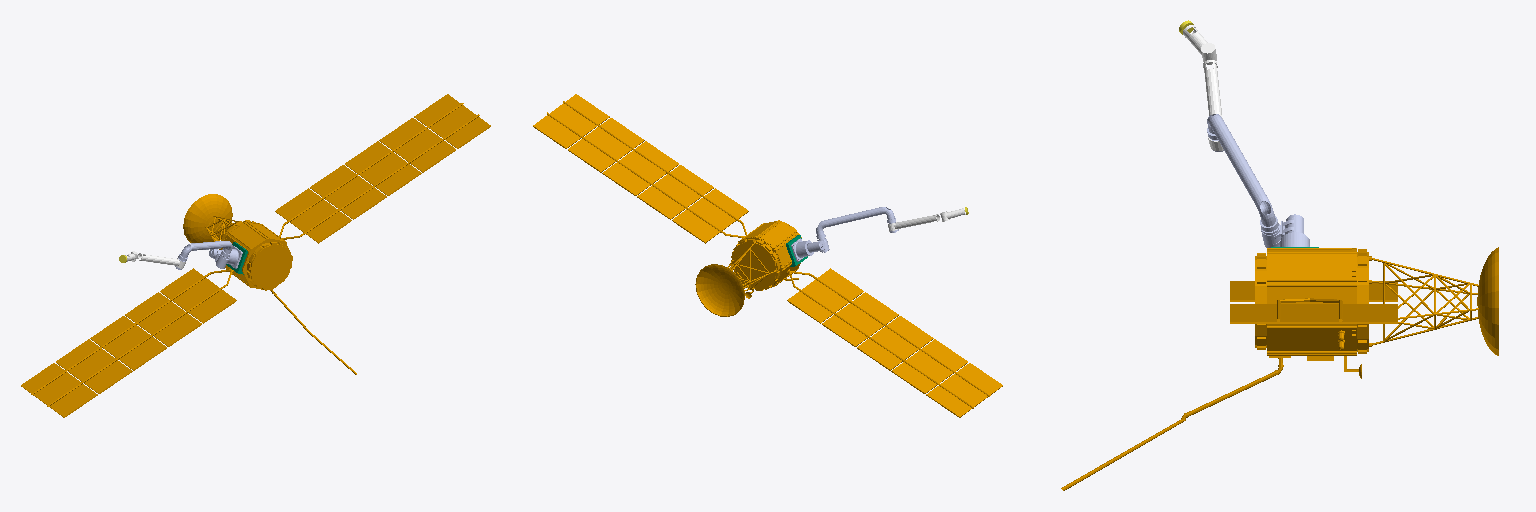
The robot description file, URDF, robot "satellite_12__starlink_sldasm9":
<?xml version='1.0' encoding='utf-8'?>
<robot name="satellite_12__starlink_sldasm9">
  <link name="base_link">
    <visual>
      <geometry>
        <mesh filename="../satellites/satellite_12/satellite.stl" />
      </geometry>
    </visual>
    <collision>
      <geometry>
        <mesh filename="../satellites/satellite_12/satellite.stl" />
      </geometry>
    </collision>
  </link>
  <link name="satellite_12_mount" />
  <joint name="satellite_mount_fixed" type="fixed">
    <parent link="base_link" />
    <child link="satellite_12_mount" />
    <origin xyz="-0.42978277927665665 -0.048447198595315544 0.12321589375317275" rpy="-1.232595164407831e-32 -1.1780967567368361 1.0555399031630314e-16" />
  </joint>
  <link name="mount_support">
    <visual>
      <geometry>
        <mesh filename="../satellites/satellite_12/mount_support.stl" />
      </geometry>
    </visual>
    <collision>
      <geometry>
        <mesh filename="../satellites/satellite_12/mount_support.stl" />
      </geometry>
    </collision>
  </link>
  <joint name="support_fixed" type="fixed">
    <parent link="satellite_12_mount" />
    <child link="mount_support" />
    <origin xyz="0 0 0" rpy="0 0 0" />
  </joint>
  <joint name="arm_adapter_fixed" type="fixed">
    <parent link="satellite_12_mount" />
    <child link="starlink_space_manipulator_base_link" />
    <origin xyz="0.009087204933166504 0.008519247174263 0.16000000119209293" rpy="-1.5707963267948966 0 0.0" />
  </joint>
  <link name="starlink_space_manipulator_base_link">
    <inertial>
      <origin xyz="-0.00908719924946466 0.0225428225681148 -0.00851924929637313" rpy="0 0 0" />
      <mass value="8.66024015898073" />
      <inertia ixx="0.0960303512697639" ixy="1.65511904636803E-18" ixz="6.22039820639877E-19" iyy="0.103454922260914" iyz="-9.68471289978311E-19" izz="0.0960303512697639" />
    </inertial>
    <visual>
      <origin xyz="0 0 0" rpy="0 0 0" />
      <geometry>
        <mesh filename="../arms/starlink_sldasm9/meshes/starlink_space_manipulator_base_link.STL" />
      </geometry>
      <material name="">
        <color rgba="0.792156862745098 0.819607843137255 0.933333333333333 1" />
      </material>
    </visual>
    <collision>
      <origin xyz="0 0 0" rpy="0 0 0" />
      <geometry>
        <mesh filename="../arms/starlink_sldasm9/meshes/starlink_space_manipulator_base_link.STL" />
      </geometry>
    </collision>
  </link>
  <link name="starlink_space_manipulator_Shoulder_link_1">
    <inertial>
      <origin xyz="-0.000399471745595769 -0.100006574194712 -0.17423940484461" rpy="0 0 0" />
      <mass value="5.16309216784981" />
      <inertia ixx="0.0524543852135592" ixy="0.00348154867667969" ixz="6.96526910910627E-05" iyy="0.0306595326318824" iyz="-0.00056674368052247" izz="0.0439979075615329" />
    </inertial>
    <visual>
      <origin xyz="0 0 0" rpy="0 0 0" />
      <geometry>
        <mesh filename="../arms/starlink_sldasm9/meshes/starlink_space_manipulator_Shoulder_link_1.STL" />
      </geometry>
      <material name="">
        <color rgba="0.792156862745098 0.819607843137255 0.933333333333333 1" />
      </material>
    </visual>
    <collision>
      <origin xyz="0 0 0" rpy="0 0 0" />
      <geometry>
        <mesh filename="../arms/starlink_sldasm9/meshes/starlink_space_manipulator_Shoulder_link_1.STL" />
      </geometry>
    </collision>
  </link>
  <joint name="starlink_space_manipulator_Shoulder_link_1_yaw" type="revolute">
    <origin xyz="-0.0090872 -0.065 -0.0085192" rpy="1.5708 -0.15574 3.1416" />
    <parent link="starlink_space_manipulator_base_link" />
    <child link="starlink_space_manipulator_Shoulder_link_1" />
    <axis xyz="0 0 -1" />
    <limit lower="-3.14" upper="3.14" effort="0" velocity="0" />
  </joint>
  <link name="starlink_space_manipulator_Upper_arm_Link_1">
    <inertial>
      <origin xyz="0.402106341472203 -0.696465272634528 -0.170177523085579" rpy="0 0 0" />
      <mass value="5.05309869040685" />
      <inertia ixx="0.388719013133801" ixy="0.210155896498943" ixz="9.30829370680679E-08" iyy="0.146049057575642" iyz="1.71830458004218E-07" izz="0.500677708275447" />
    </inertial>
    <visual>
      <origin xyz="0 0 0" rpy="0 0 0" />
      <geometry>
        <mesh filename="../arms/starlink_sldasm9/meshes/starlink_space_manipulator_Upper_arm_Link_1.STL" />
      </geometry>
      <material name="">
        <color rgba="0.792156862745098 0.819607843137255 0.933333333333333 1" />
      </material>
    </visual>
    <collision>
      <origin xyz="0 0 0" rpy="0 0 0" />
      <geometry>
        <mesh filename="../arms/starlink_sldasm9/meshes/starlink_space_manipulator_Upper_arm_Link_1.STL" />
      </geometry>
    </collision>
  </link>
  <joint name="starlink_space_manipulator_Upper_arm_Link_1_roll" type="revolute">
    <origin xyz="0 -0.2 -0.18" rpy="1.5708 0.90646 1.5708" />
    <parent link="starlink_space_manipulator_Shoulder_link_1" />
    <child link="starlink_space_manipulator_Upper_arm_Link_1" />
    <axis xyz="0 0 -1" />
    <limit lower="-2" upper="1.5" effort="0" velocity="0" />
  </joint>
  <link name="starlink_space_manipulator_Mid_arm_Link_1">
    <inertial>
      <origin xyz="-0.000406052776441013 0.317722269561105 0.0155331755135703" rpy="0 0 0" />
      <mass value="1.57635531881168" />
      <inertia ixx="0.133610363618846" ixy="5.33750993405138E-05" ixz="-3.60473795202962E-09" iyy="0.00502119434334708" iyz="-2.514275749911E-05" izz="0.134586018527477" />
    </inertial>
    <visual>
      <origin xyz="0 0 0" rpy="0 0 0" />
      <geometry>
        <mesh filename="../arms/starlink_sldasm9/meshes/starlink_space_manipulator_Mid_arm_Link_1.STL" />
      </geometry>
      <material name="">
        <color rgba="1 1 1 1" />
      </material>
    </visual>
    <collision>
      <origin xyz="0 0 0" rpy="0 0 0" />
      <geometry>
        <mesh filename="../arms/starlink_sldasm9/meshes/starlink_space_manipulator_Mid_arm_Link_1.STL" />
      </geometry>
    </collision>
  </link>
  <joint name="starlink_space_manipulator_Mid_arm_Link_1_roll" type="revolute">
    <origin xyz="0.599999999999673 -1.03923048454122 0" rpy="-3.14159265358979 0 0.828250280535091" />
    <parent link="starlink_space_manipulator_Upper_arm_Link_1" />
    <child link="starlink_space_manipulator_Mid_arm_Link_1" />
    <axis xyz="0 0 -1" />
    <limit lower="-3.14" upper="3.14" effort="0" velocity="0" />
  </joint>
  <link name="starlink_space_manipulator_Upper_wrist_Link_1">
    <inertial>
      <origin xyz="-0.000400003664721815 -0.201565878030355 -0.00216705855311664" rpy="0 0 0" />
      <mass value="0.994770641034713" />
      <inertia ixx="0.00165409639029414" ixy="-7.59103925411082E-06" ixz="-3.17403155320863E-06" iyy="0.00201437937768072" iyz="2.63246464091218E-06" izz="0.00159638838344539" />
    </inertial>
    <visual>
      <origin xyz="0 0 0" rpy="0 0 0" />
      <geometry>
        <mesh filename="../arms/starlink_sldasm9/meshes/starlink_space_manipulator_Upper_wrist_Link_1.STL" />
      </geometry>
      <material name="">
        <color rgba="0.792156862745098 0.819607843137255 0.933333333333333 1" />
      </material>
    </visual>
    <collision>
      <origin xyz="0 0 0" rpy="0 0 0" />
      <geometry>
        <mesh filename="../arms/starlink_sldasm9/meshes/starlink_space_manipulator_Upper_wrist_Link_1.STL" />
      </geometry>
    </collision>
  </link>
  <joint name="starlink_space_manipulator_Upper_wrist_Link_1_yaw" type="revolute">
    <origin xyz="-0.00050155183276912 0.686793643713439 0.0155010481432086" rpy="0 -0.0763876794035917 3.14159265358979" />
    <parent link="starlink_space_manipulator_Mid_arm_Link_1" />
    <child link="starlink_space_manipulator_Upper_wrist_Link_1" />
    <axis xyz="0 -1 0" />
    <limit lower="-3.14" upper="3.14" effort="0" velocity="0" />
  </joint>
  <link name="starlink_space_manipulator_Upper_wrist_Link_2">
    <inertial>
      <origin xyz="8.45304168883843E-08 0.0848318719623631 -0.00515657391755576" rpy="0 0 0" />
      <mass value="1.03716823037577" />
      <inertia ixx="0.0100970561498589" ixy="1.32295633551837E-09" ixz="-9.43675929999229E-09" iyy="0.00222325407426665" iyz="-2.08772874866187E-06" izz="0.0105840577017538" />
    </inertial>
    <visual>
      <origin xyz="0 0 0" rpy="0 0 0" />
      <geometry>
        <mesh filename="../arms/starlink_sldasm9/meshes/starlink_space_manipulator_Upper_wrist_Link_2.STL" />
      </geometry>
      <material name="">
        <color rgba="1 1 1 1" />
      </material>
    </visual>
    <collision>
      <origin xyz="0 0 0" rpy="0 0 0" />
      <geometry>
        <mesh filename="../arms/starlink_sldasm9/meshes/starlink_space_manipulator_Upper_wrist_Link_2.STL" />
      </geometry>
    </collision>
  </link>
  <joint name="starlink_space_manipulator_Upper_wrist_Link_2_roll" type="revolute">
    <origin xyz="0 -0.30020635628656 0" rpy="-0.0158640776811277 -0.0317448426184613 -2.67805461574742" />
    <parent link="starlink_space_manipulator_Upper_wrist_Link_1" />
    <child link="starlink_space_manipulator_Upper_wrist_Link_2" />
    <axis xyz="0 0 1" />
    <limit lower="-2.5" upper="1.8" effort="0" velocity="0" />
  </joint>
  <link name="starlink__space_manipulator_2F-Body_Link">
    </link>
  <joint name="starlink__space_manipulator_2F-Body_Link_yaw" type="revolute">
    <origin xyz="0 0.34845 -0.0053813" rpy="-3.1416 0.93592 0" />
    <parent link="starlink_space_manipulator_Upper_wrist_Link_2" />
    <child link="starlink__space_manipulator_2F-Body_Link" />
    <axis xyz="0 -1 0" />
    <limit lower="-3.14" upper="3.14" effort="0" velocity="0" />
  </joint>
  <link name="angular_hand">
    <visual>
      <geometry>
        <mesh filename="../arms/starlink_sldasm9/meshes/hand_2finger.STL" scale="2 2 2" />
      </geometry>
    </visual>
    <collision>
      <geometry>
        <mesh filename="../arms/starlink_sldasm9/meshes/hand_2finger.STL" scale="2 2 2" />
      </geometry>
    </collision>
  </link>
  <joint name="angular_hand_fixed" type="fixed">
    <parent link="starlink__space_manipulator_2F-Body_Link" />
    <child link="angular_hand" />
    <origin xyz="0 -0.036 0" rpy="-1.5707963267948966 0 0" />
  </joint>
  <link name="angular_adapter">
    <visual>
      <geometry>
        <mesh filename="../arms/starlink_sldasm9/meshes/angular_adapter.stl" />
      </geometry>
    </visual>
    <collision>
      <geometry>
        <mesh filename="../arms/starlink_sldasm9/meshes/angular_adapter.stl" />
      </geometry>
    </collision>
  </link>
  <joint name="angular_adapter_fixed" type="fixed">
    <parent link="starlink__space_manipulator_2F-Body_Link" />
    <child link="angular_adapter" />
    <origin xyz="0 -0.0005 0" rpy="1.5707963267948966 0 0" />
  </joint>
  <link name="angular_finger_1">
    <visual>
      <geometry>
        <mesh filename="../arms/starlink_sldasm9/meshes/finger_proximal.STL" scale="2 2 2" />
      </geometry>
    </visual>
    <collision>
      <geometry>
        <mesh filename="../arms/starlink_sldasm9/meshes/finger_proximal.STL" scale="2 2 2" />
      </geometry>
    </collision>
  </link>
  <link name="angular_tip_1">
    <visual>
      <geometry>
        <mesh filename="../arms/starlink_sldasm9/meshes/finger_distal.STL" scale="2 2 2" />
      </geometry>
    </visual>
    <collision>
      <geometry>
        <mesh filename="../arms/starlink_sldasm9/meshes/finger_distal.STL" scale="2 2 2" />
      </geometry>
    </collision>
  </link>
  <joint name="angular_joint_1" type="revolute">
    <parent link="angular_hand" />
    <child link="angular_finger_1" />
    <axis xyz="0 0 1" />
    <origin xyz="-0.005 0.0619 -0.22964" rpy="-1.570796327 .649262481663582 1.5707963267948966" />
    <limit lower="0" upper="1.51" effort="2" velocity="1" />
  </joint>
  <joint name="angular_joint_tip_1" type="revolute">
    <parent link="angular_finger_1" />
    <child link="angular_tip_1" />
    <axis xyz="0 0 1" />
    <origin xyz="0.088 -0.006 0.0" rpy="0 0 0" />
    <limit lower="0" upper="2" effort="2" velocity="1" />
  </joint>
  <link name="angular_finger_2">
    <visual>
      <geometry>
        <mesh filename="../arms/starlink_sldasm9/meshes/finger_proximal.STL" scale="2 2 2" />
      </geometry>
    </visual>
    <collision>
      <geometry>
        <mesh filename="../arms/starlink_sldasm9/meshes/finger_proximal.STL" scale="2 2 2" />
      </geometry>
    </collision>
  </link>
  <link name="angular_tip_2">
    <visual>
      <geometry>
        <mesh filename="../arms/starlink_sldasm9/meshes/finger_distal.STL" scale="2 2 2" />
      </geometry>
    </visual>
    <collision>
      <geometry>
        <mesh filename="../arms/starlink_sldasm9/meshes/finger_distal.STL" scale="2 2 2" />
      </geometry>
    </collision>
  </link>
  <joint name="angular_joint_2" type="revolute">
    <parent link="angular_hand" />
    <child link="angular_finger_2" />
    <axis xyz="0 0 1" />
    <origin xyz="-0.005 -0.0619 -0.22964" rpy="-1.570796327 .649262481663582 -1.5707963267948966" />
    <limit lower="0" upper="1.51" effort="2" velocity="1" />
  </joint>
  <joint name="angular_joint_tip_2" type="revolute">
    <parent link="angular_finger_2" />
    <child link="angular_tip_2" />
    <axis xyz="0 0 1" />
    <origin xyz="0.088 -0.006 0.0" rpy="0 0 0" />
    <limit lower="0" upper="2" effort="2" velocity="1" />
  </joint>
  <link name="angular_tcp" />
  <joint name="angular_tcp_fixed" type="fixed">
    <parent link="angular_hand" />
    <child link="angular_tcp" />
    <origin xyz="-0.005 0 -0.34" rpy="3.141592653589793 0 0" />
  </joint>
</robot>

--- Facts derived from the render (not from the file) ---
Views: 3 orthographic renders of the robot side by side, from view 1: azimuth 30°, elevation 25°; view 2: azimuth 150°, elevation 25°; view 3: azimuth 270°, elevation 25°.
Model satellite_12__starlink_sldasm9 with 17 links and 16 joints (10 revolute, 6 fixed), rooted at base_link, posed all joints at 0.
Links seen in each view (by area): view 1: base_link; view 2: base_link, starlink_space_manipulator_Upper_arm_Link_1; view 3: base_link, starlink_space_manipulator_Upper_arm_Link_1, starlink_space_manipulator_Shoulder_link_1, starlink_space_manipulator_Mid_arm_Link_1, starlink_space_manipulator_Upper_wrist_Link_2.
Boxes of the visible links, x1,y1,x2,y2 form: base_link: (21,94,490,417); base_link: (533,94,1002,417); starlink_space_manipulator_Upper_arm_Link_1: (816,207,898,235); base_link: (1061,247,1498,490); starlink_space_manipulator_Upper_arm_Link_1: (1207,114,1275,226); starlink_space_manipulator_Shoulder_link_1: (1260,214,1303,247); starlink_space_manipulator_Mid_arm_Link_1: (1203,60,1223,150); starlink_space_manipulator_Upper_wrist_Link_2: (1183,25,1216,64).
Bounding box of the posed robot: 8 × 3.66 × 3.38 m (x, y, z).
8 mesh visuals loaded from 12 distinct referenced files (8 binary STL); not drawn: 6 (reference not matched to a file when rendering).
